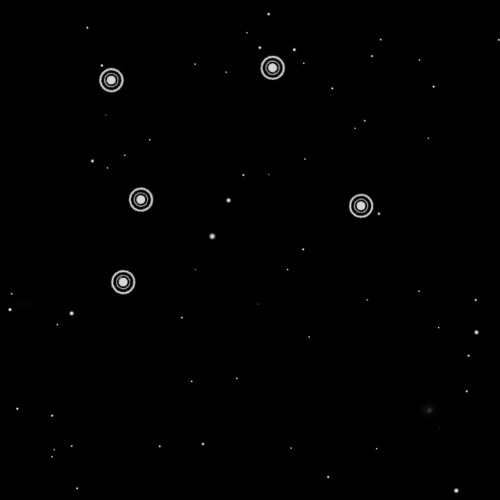libra: (88, 50, 377, 303)
